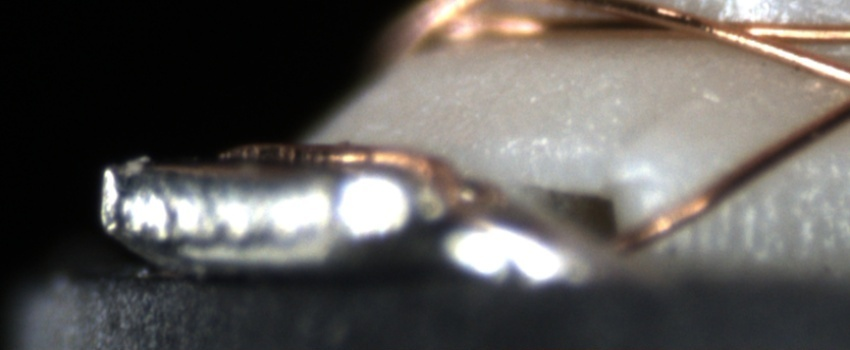TE: (206, 140, 473, 181)
